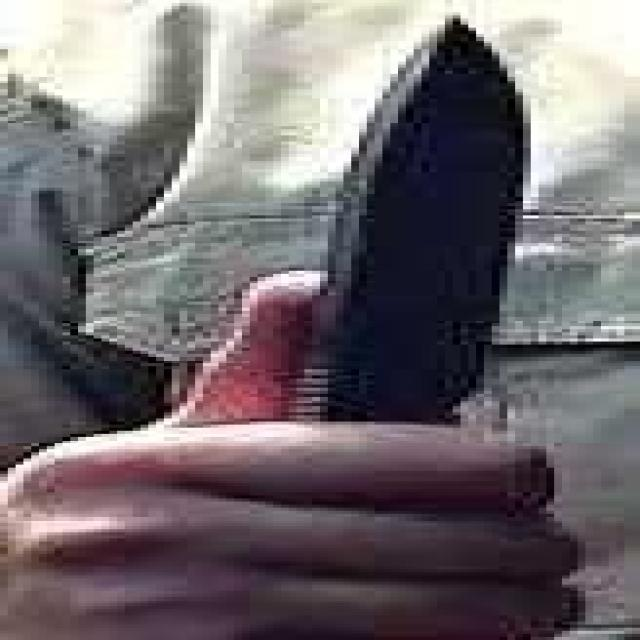knife: (30, 1, 611, 640)
